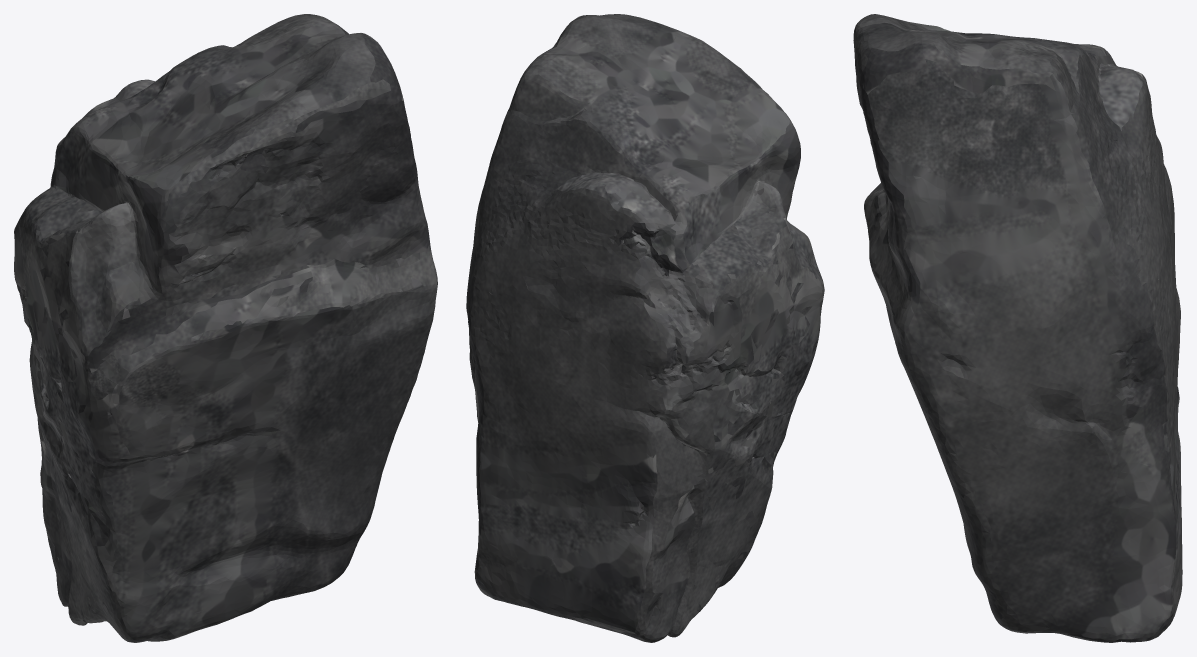
Rendered from world_A1.obj.
The picture shows the model from 3 angles, left to right: view 1: azimuth 30°, elevation 25°; view 2: azimuth 150°, elevation 25°; view 3: azimuth 270°, elevation 25°; orthographic projection. The views are drawn at different scales.
Parts seen in each view (by area): view 1: geometry_0; view 2: geometry_0; view 3: geometry_0.
Part boxes in pixels (x1,y1,x2,y2): geometry_0: (14,14,437,642); geometry_0: (466,14,824,642); geometry_0: (853,14,1182,642).
Size of the model in its own units: 0.6705 by 1.11 by 0.5439.
Materials: 1 (1 with a texture image).
